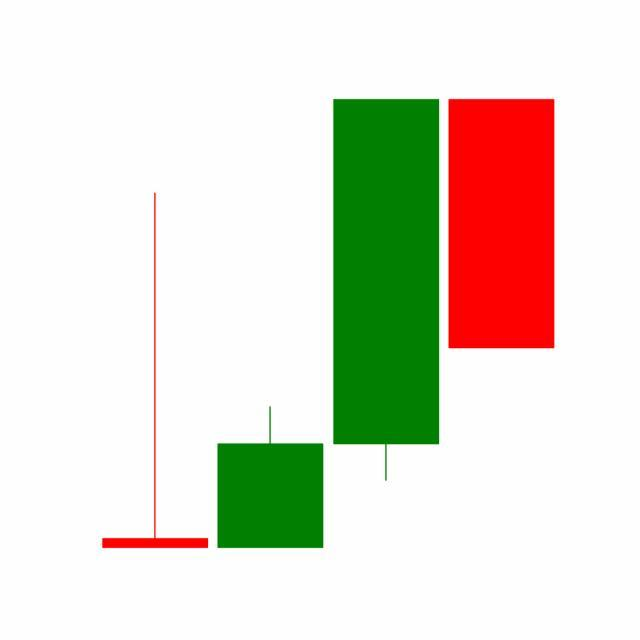Marubozu: (444, 97, 560, 352)
